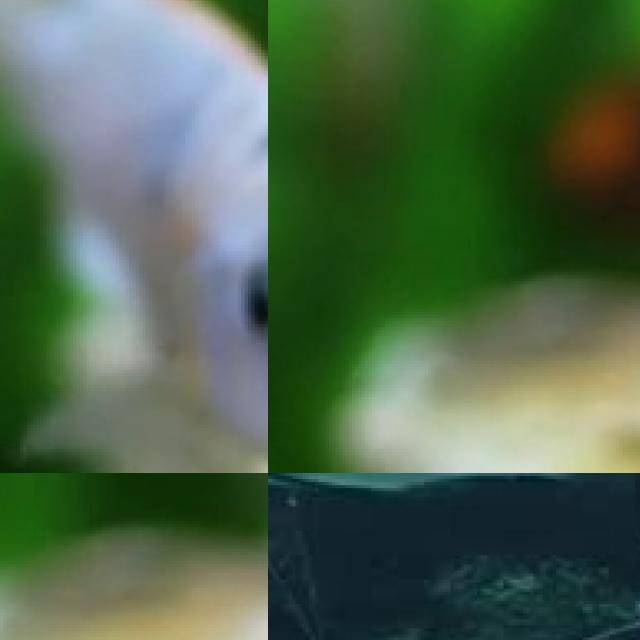fish: (0, 0, 268, 473), (546, 0, 640, 220)
